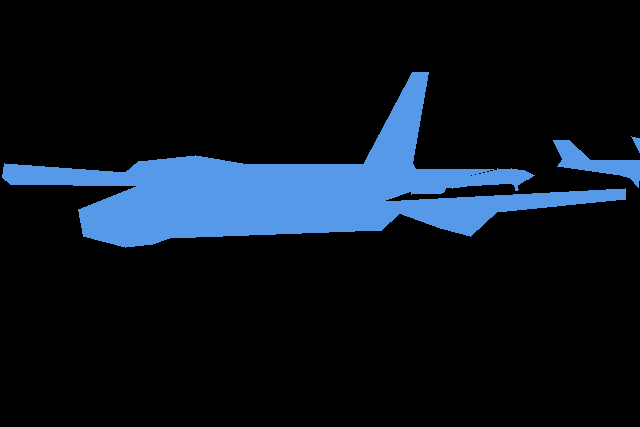Airplane: (2, 72, 625, 248), (553, 136, 640, 187), (411, 168, 534, 195)
